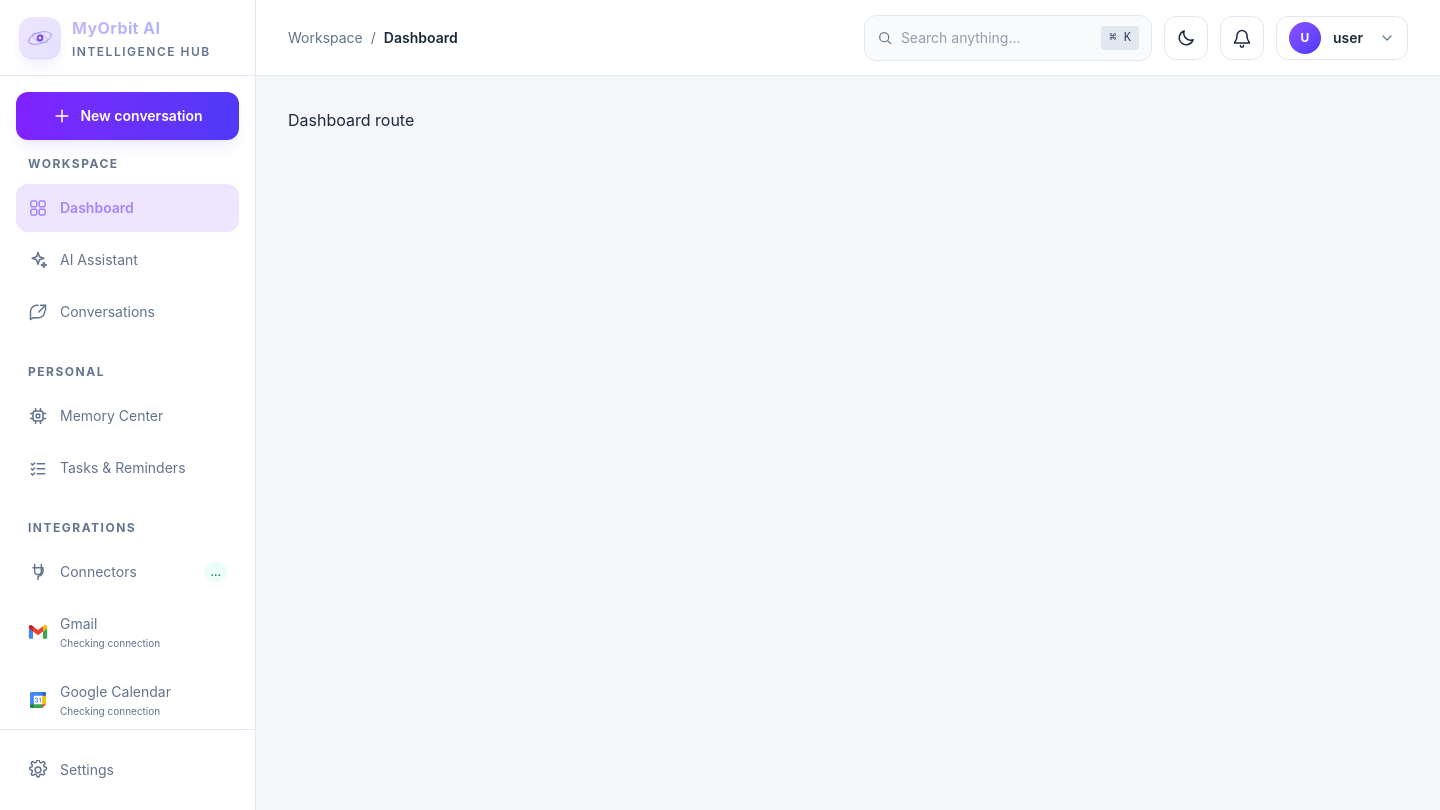
Test: Dashboard integration navigation › switches the manual dark class and persisted theme in both directions
Click the button named "Toggle theme" at (1186, 38), box [1164, 16, 1208, 60]
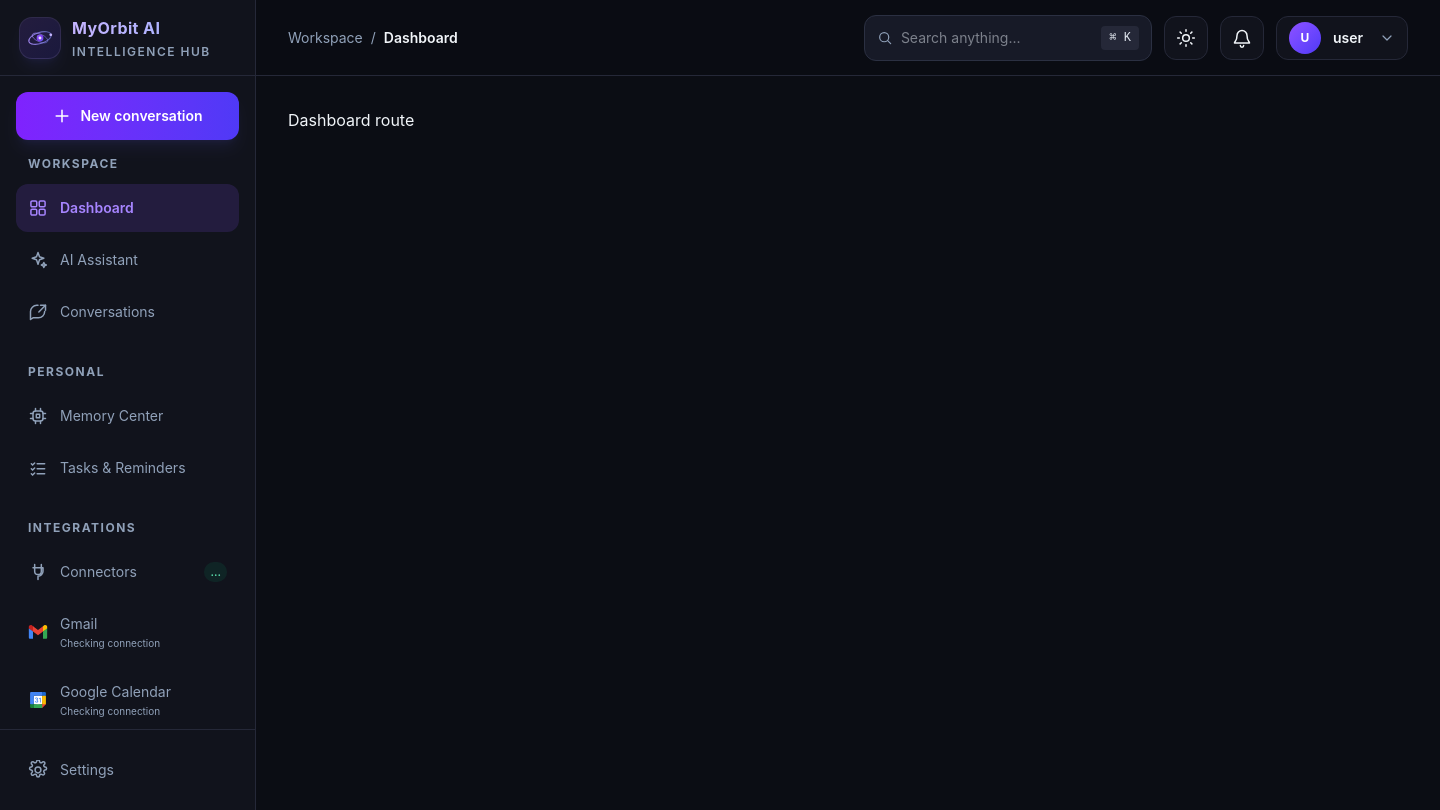
Check: the element with test id "dashboard-shell" has class "dark"
Click the button named "Toggle theme" at (1186, 38), box [1164, 16, 1208, 60]
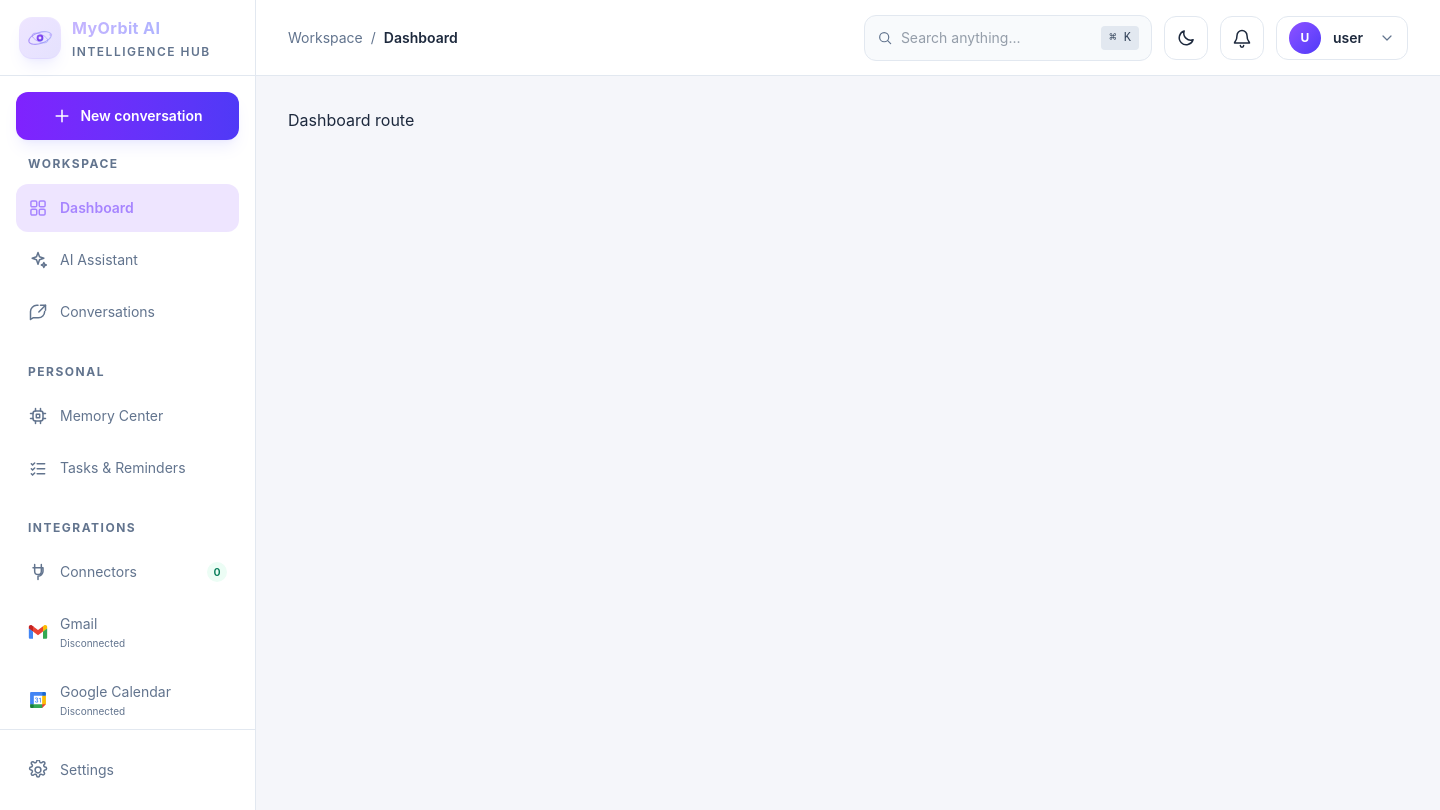
Check: the element with test id "dashboard-shell" does not have class "dark"
